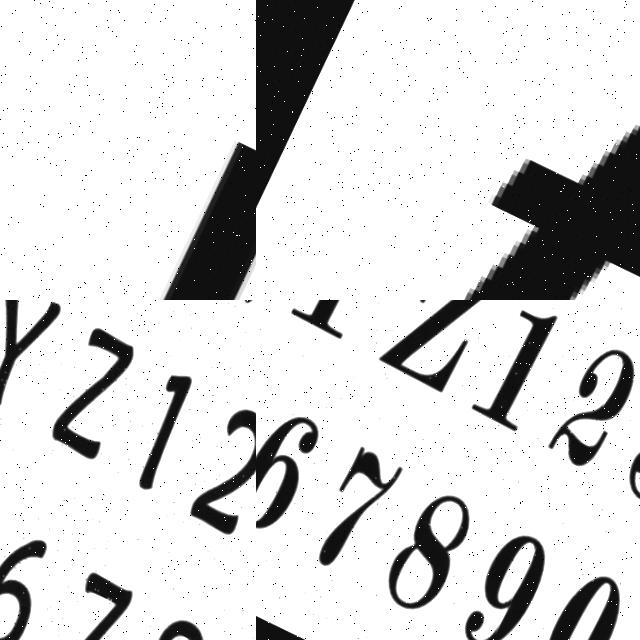0: (502, 542, 640, 640)
1: (95, 355, 228, 518), (448, 300, 588, 454)
2: (148, 376, 256, 567), (520, 324, 640, 488)
3: (596, 373, 640, 532)
6: (256, 393, 337, 560), (0, 501, 89, 640)
7: (273, 418, 421, 601), (11, 549, 160, 640)
8: (359, 467, 500, 635), (78, 588, 239, 640)
9: (429, 500, 578, 640)
F: (264, 0, 640, 300)
I: (37, 20, 256, 300)
